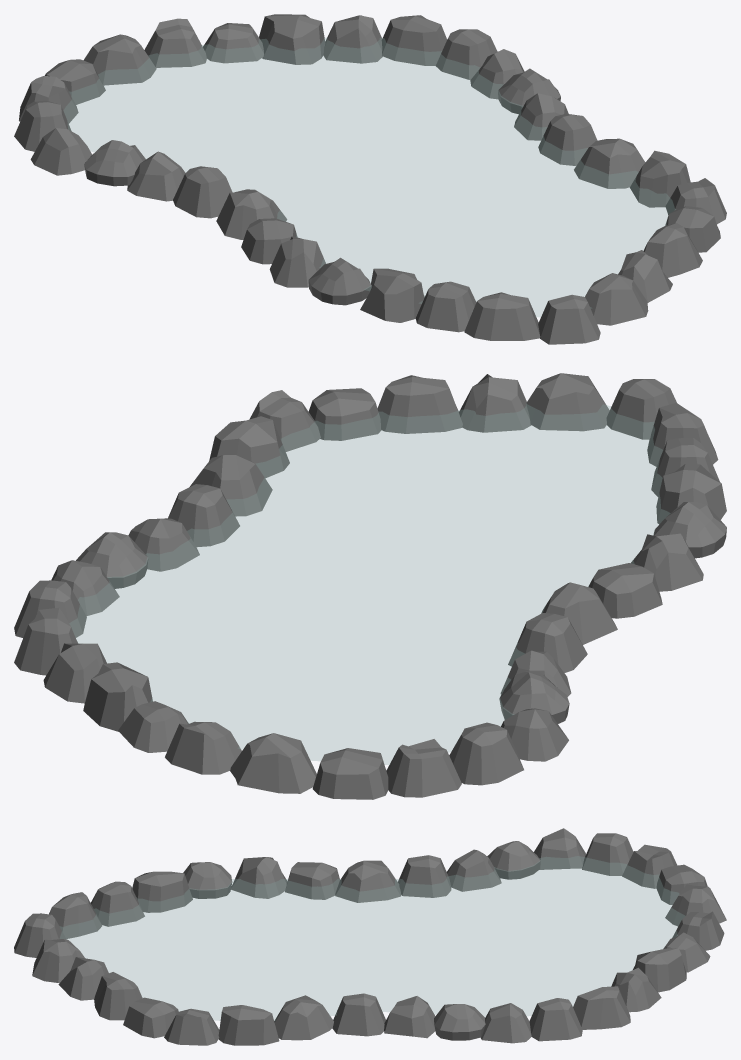
File: pond.fbx
3 renders of one model, top to bottom at view 1: azimuth 30°, elevation 25°; view 2: azimuth 150°, elevation 25°; view 3: azimuth 270°, elevation 25°, orthographic. The views are drawn at different scales.
Parts seen in each view (by area): view 1: pPlane4, polySurface35; view 2: pPlane4, polySurface35; view 3: pPlane4, polySurface35.
Boxes of the visible parts, x1,y1,x2,y2 form: pPlane4: (64, 38, 675, 316); polySurface35: (14, 14, 726, 344); pPlane4: (69, 403, 670, 764); polySurface35: (14, 373, 726, 799); pPlane4: (60, 856, 684, 1020); polySurface35: (14, 828, 726, 1045).
Bounding box in the file's own units: 17.52 × 1.22 × 26.53.
